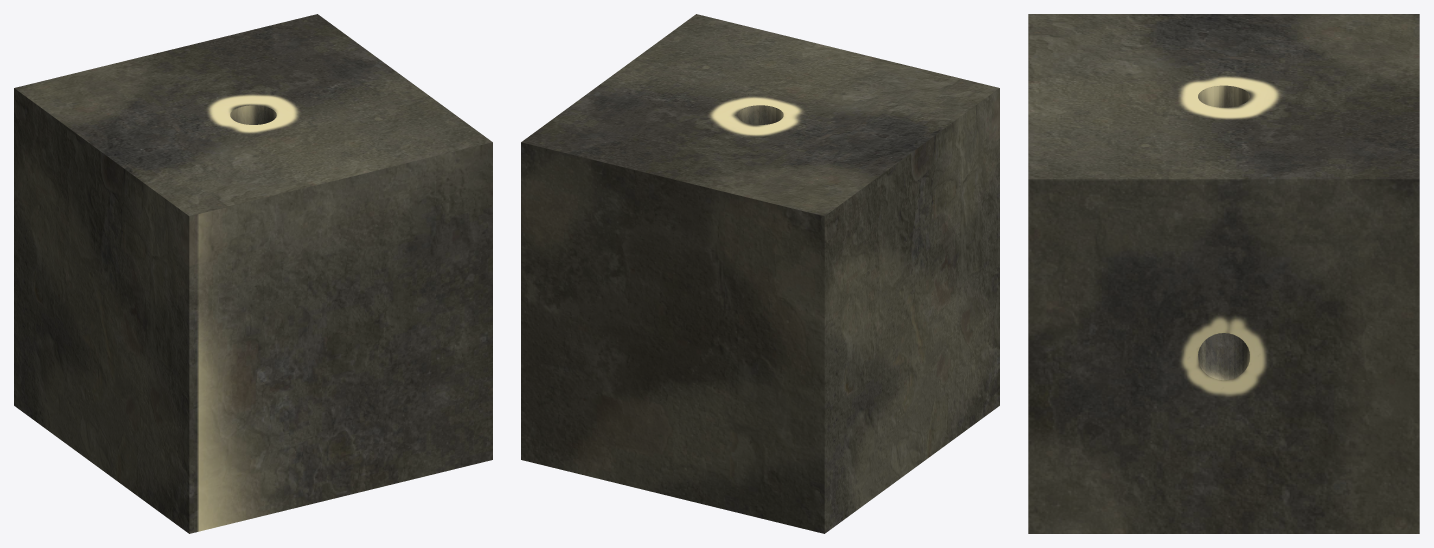
The model's file is level1tass.fbx.
3 views of the same model, side by side, from view 1: azimuth 30°, elevation 25°; view 2: azimuth 150°, elevation 25°; view 3: azimuth 270°, elevation 25° (orthographic). The views are drawn at different scales.
Parts seen in each view (by area): view 1: Cube; view 2: Cube; view 3: Cube.
Boxes of the visible parts, x1,y1,x2,y2 form: Cube: (14,14,492,533); Cube: (521,14,999,533); Cube: (1028,14,1419,533).
Bounding box in the file's own units: 200 × 200 × 200.
Materials: 1 (1 with a texture image).
